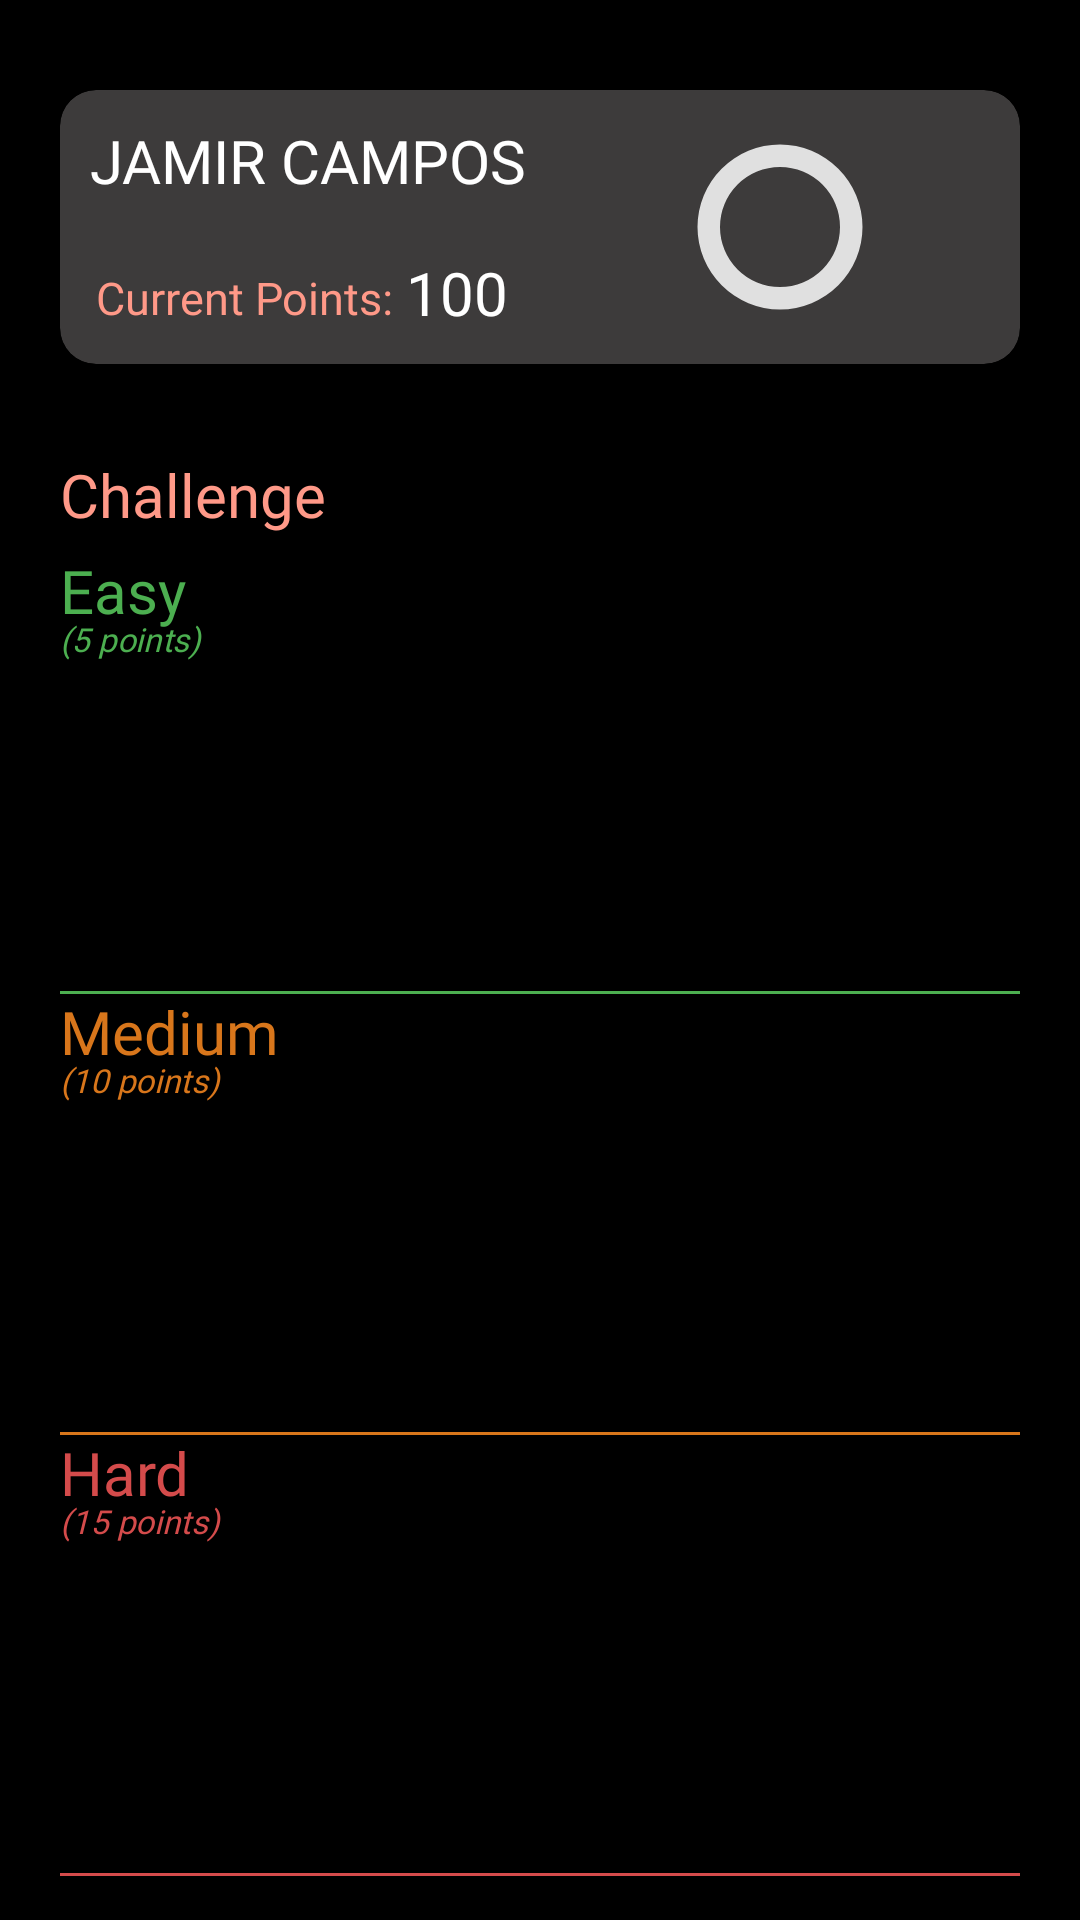

Icon click points for this 1080*1920 phone screenshot, format (x=x, y=y):
circular progress: (x=780, y=227)
